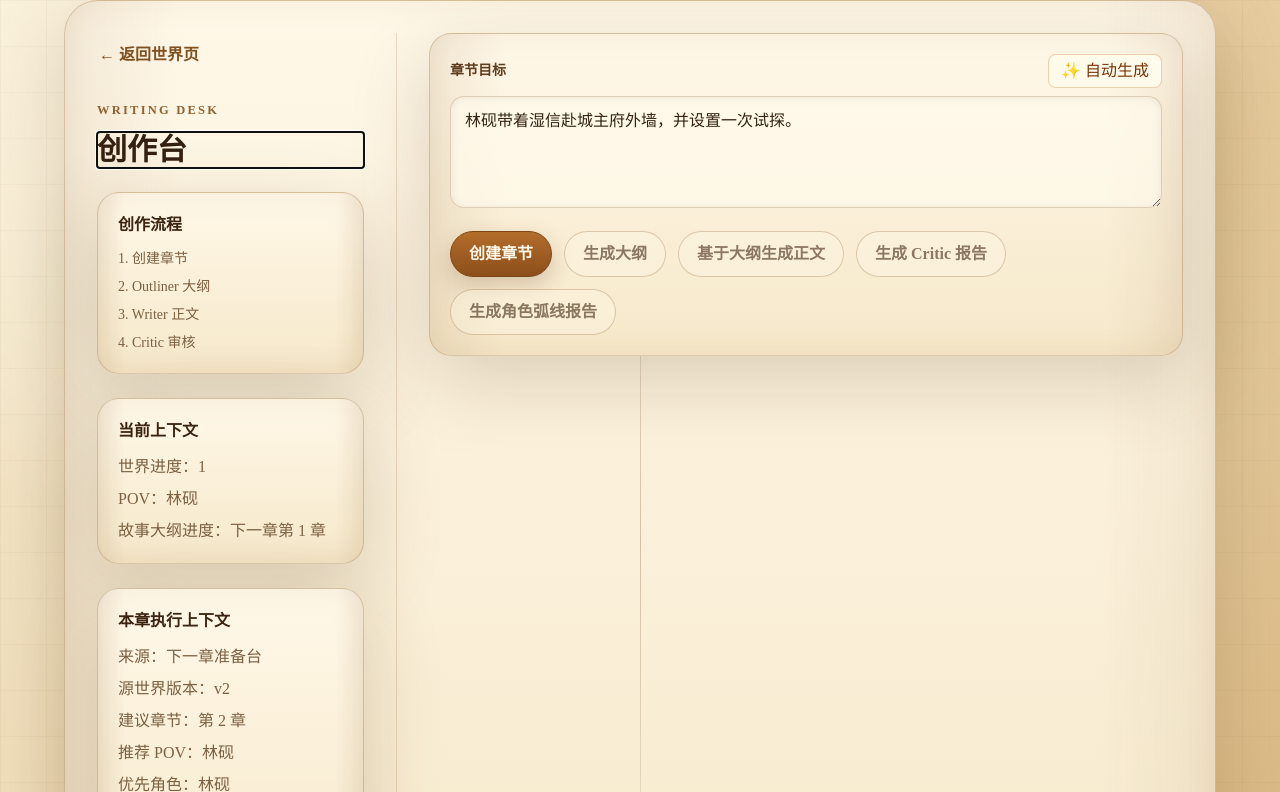
StudioPage Review Studio 2.0 controls › shows frozen execution context snapshot after drafting
Click the button "创建章节": (501, 254) top-left (450, 231), bottom-right (552, 277)
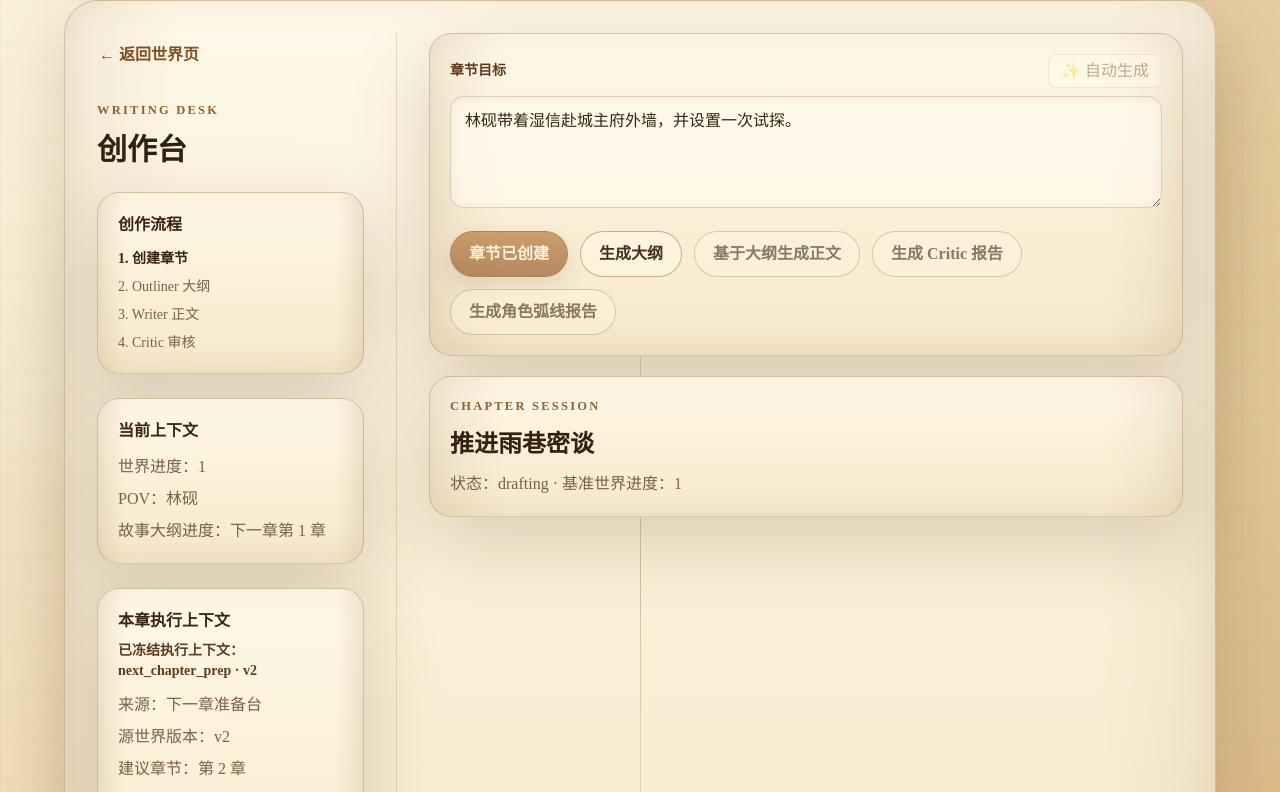
Click the button "生成大纲": (631, 254) top-left (580, 231), bottom-right (682, 277)
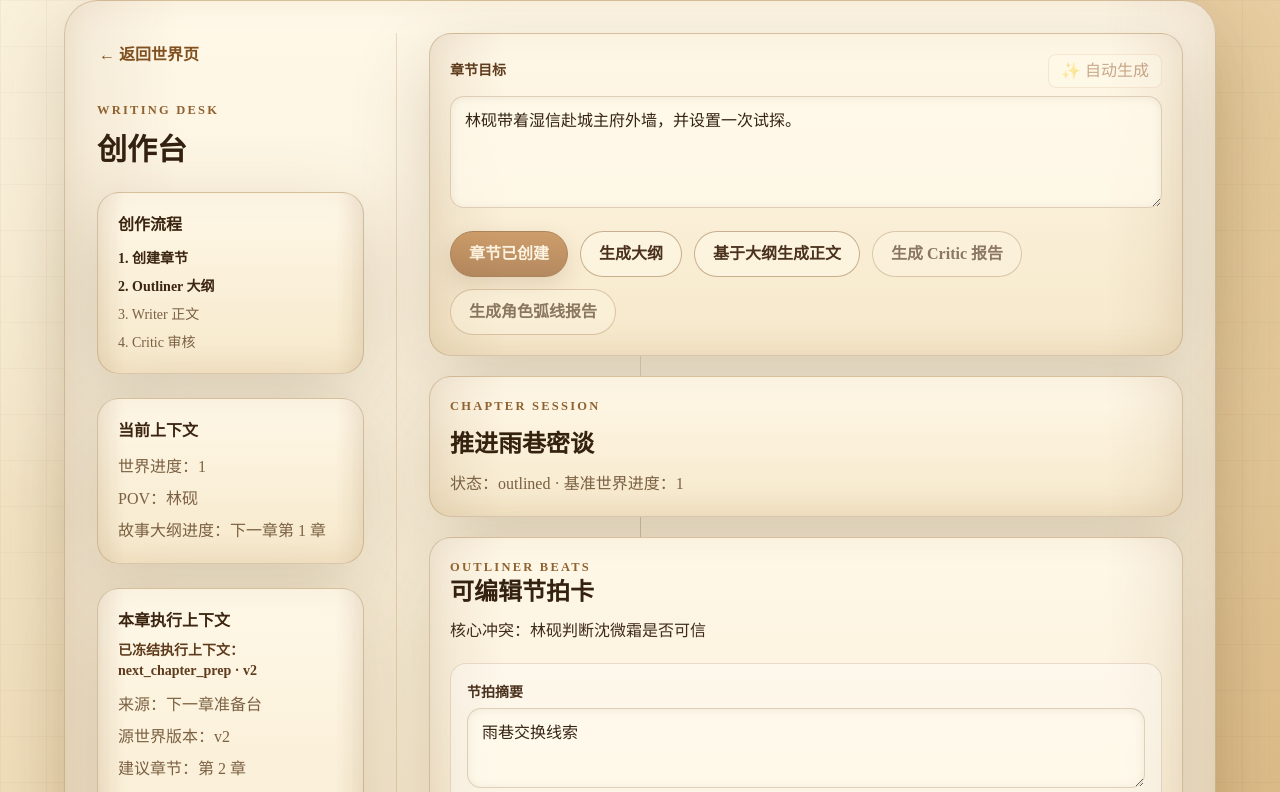
Click the button "基于大纲生成正文": (777, 254) top-left (694, 231), bottom-right (860, 277)
(page scrolled)
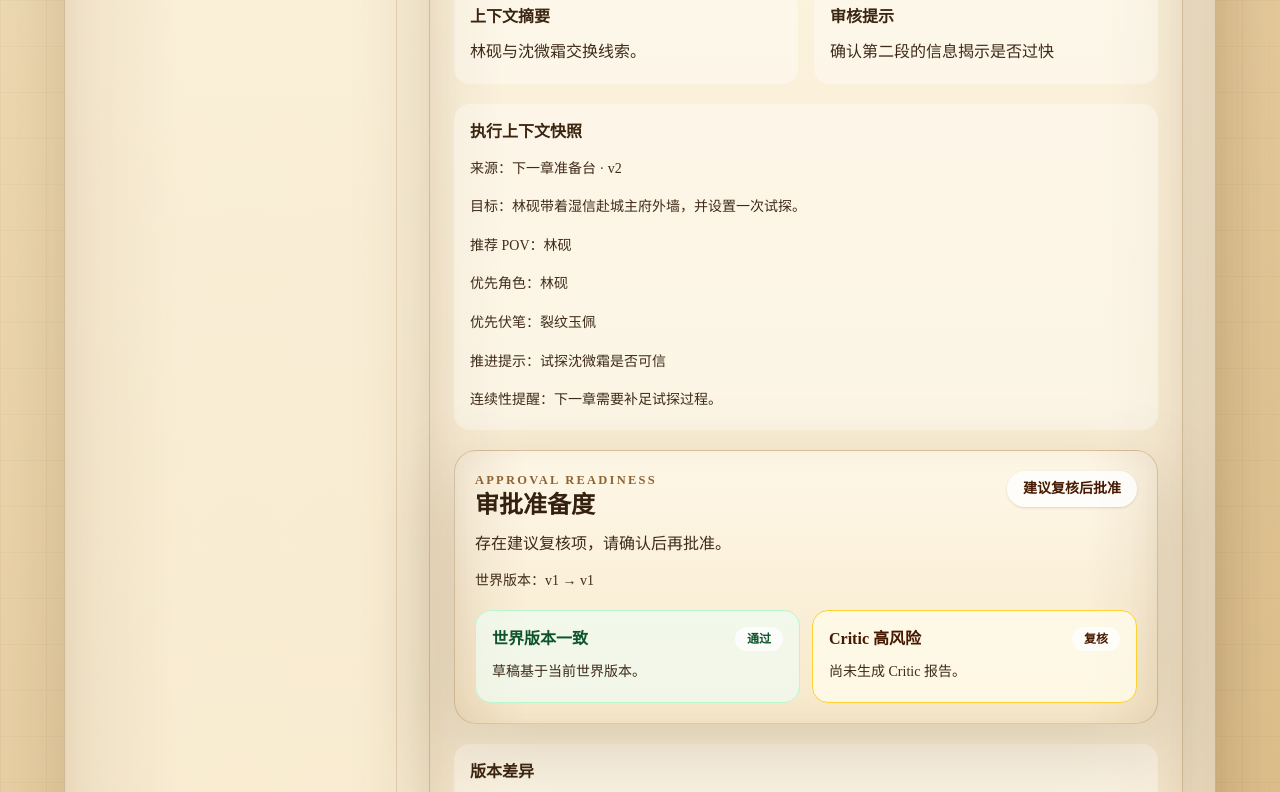
Now the heading "执行上下文快照" is shown, box top-left (470, 123), bottom-right (582, 140)
Now the text "目标：林砚带着湿信赴城主府外墙，并设置一次试探。" is shown, box top-left (470, 199), bottom-right (806, 214)
Now the text "连续性提醒：下一章需要补足试探过程。" is shown, box top-left (470, 392), bottom-right (722, 407)
